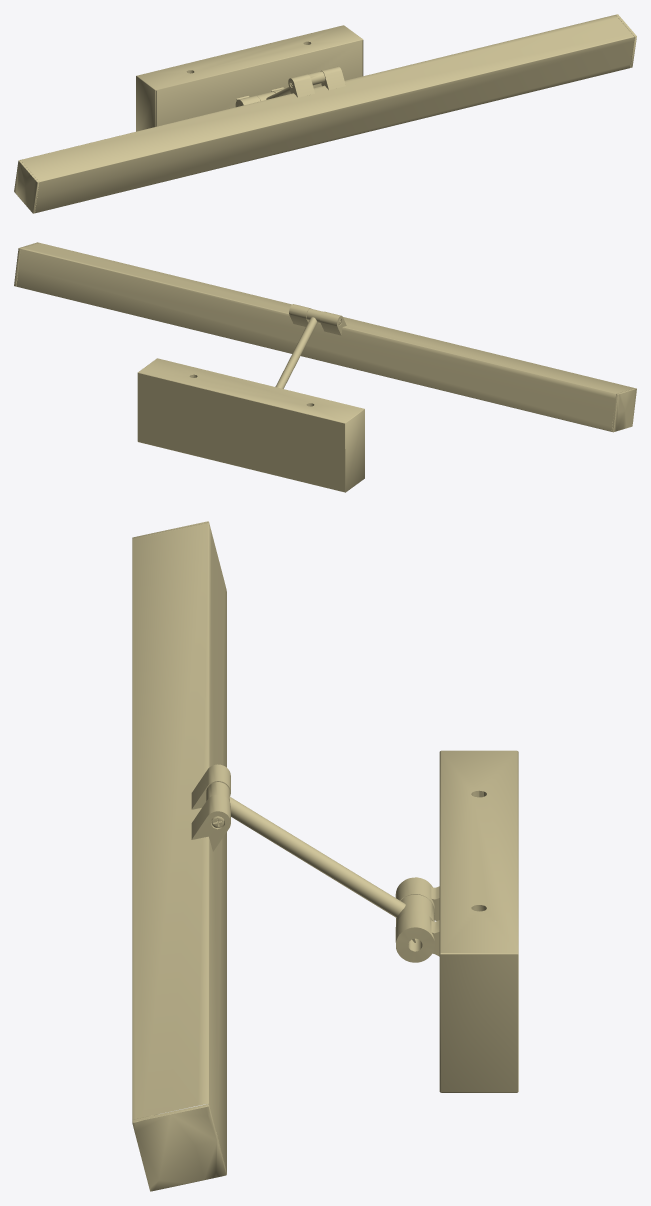
Rendered from mirror lamp.FBX.
The picture shows the model from 3 angles, top to bottom: view 1: azimuth 30°, elevation 25°; view 2: azimuth 150°, elevation 25°; view 3: azimuth 270°, elevation 25°; orthographic projection. The views are drawn at different scales.
Parts seen in each view (by area): view 1: mirror lamp; view 2: mirror lamp; view 3: mirror lamp.
Part boxes in pixels (x1,y1,x2,y2): mirror lamp: [14, 14, 636, 213]; mirror lamp: [14, 242, 636, 492]; mirror lamp: [132, 521, 518, 1191].
Size of the model in its own units: 107 by 17.31 by 29.73.
